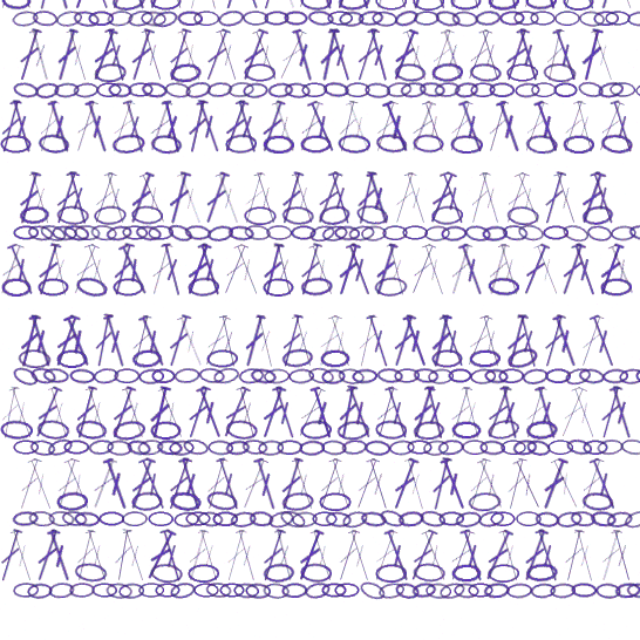chain: (463, 377, 493, 400), (95, 317, 125, 339), (335, 256, 364, 277), (447, 439, 476, 460), (207, 500, 236, 521), (127, 440, 157, 460), (127, 74, 156, 93), (127, 196, 156, 215), (303, 257, 332, 276), (63, 440, 92, 459), (95, 562, 124, 581), (64, 196, 92, 215), (352, 196, 380, 215), (544, 196, 572, 215), (528, 257, 556, 276), (272, 379, 300, 398), (96, 440, 124, 459), (224, 440, 252, 459), (176, 501, 204, 520), (495, 136, 524, 154), (47, 380, 76, 398), (319, 441, 348, 459), (431, 502, 460, 520), (320, 75, 348, 93), (112, 136, 140, 154), (176, 136, 204, 154), (368, 136, 396, 154), (432, 136, 460, 154), (160, 197, 188, 215), (480, 197, 508, 215), (272, 258, 300, 276), (464, 258, 492, 276), (384, 441, 412, 459), (272, 502, 300, 520), (528, 502, 556, 520), (160, 563, 188, 581), (173, 272, 198, 292), (41, 394, 66, 414), (269, 516, 294, 536), (563, 516, 588, 536), (337, 577, 362, 597), (351, 319, 380, 336), (144, 380, 171, 398), (320, 197, 348, 214), (80, 258, 108, 275), (112, 258, 140, 275), (288, 319, 316, 336), (32, 441, 60, 458), (480, 441, 508, 458), (256, 563, 284, 580), (384, 563, 412, 580), (480, 563, 508, 580), (71, 455, 96, 474), (354, 516, 379, 535), (288, 75, 315, 92), (448, 75, 475, 92), (480, 75, 507, 92), (400, 136, 427, 153), (224, 197, 251, 214), (384, 197, 411, 214), (48, 258, 75, 275), (144, 258, 171, 275), (400, 258, 427, 275), (192, 319, 219, 336), (448, 319, 475, 336), (288, 441, 315, 458), (352, 441, 379, 458), (80, 502, 107, 519), (144, 502, 171, 519), (288, 563, 315, 580), (367, 89, 391, 108), (416, 198, 444, 214), (240, 259, 268, 275), (304, 503, 332, 519), (33, 75, 59, 92), (160, 76, 187, 92), (352, 76, 379, 92), (384, 76, 411, 92), (416, 76, 443, 92), (512, 76, 539, 92), (161, 90, 185, 108), (402, 90, 426, 108), (240, 137, 267, 153), (464, 137, 491, 153), (32, 198, 59, 214), (256, 198, 283, 214), (288, 198, 315, 214), (512, 198, 539, 214), (65, 273, 89, 291), (295, 273, 319, 291), (511, 273, 535, 291), (64, 320, 91, 336), (128, 320, 155, 336), (256, 320, 283, 336), (544, 320, 571, 336), (80, 381, 107, 397), (208, 381, 235, 397), (400, 381, 427, 397), (432, 381, 459, 397), (513, 395, 537, 413), (160, 442, 187, 458), (260, 517, 284, 535), (323, 517, 347, 535), (192, 564, 219, 580), (352, 564, 379, 580), (448, 564, 475, 580), (406, 578, 430, 596), (33, 320, 59, 336), (305, 381, 331, 397), (417, 442, 443, 458), (417, 564, 443, 580), (140, 90, 164, 107), (217, 90, 241, 107), (189, 151, 213, 168), (524, 151, 548, 168), (541, 151, 565, 168), (85, 273, 109, 290), (473, 273, 497, 290), (57, 395, 81, 412), (213, 395, 237, 412), (294, 395, 318, 412), (187, 456, 211, 473), (514, 456, 538, 473), (389, 517, 413, 534), (439, 517, 463, 534), (176, 578, 200, 595), (291, 578, 315, 595), (79, 91, 103, 107), (42, 152, 66, 168), (208, 274, 232, 290), (354, 579, 378, 595), (42, 91, 65, 107), (94, 91, 117, 107), (61, 152, 84, 168), (172, 152, 195, 168), (55, 274, 78, 290), (122, 274, 145, 290), (147, 274, 170, 290), (306, 274, 329, 290), (329, 274, 352, 290), (428, 274, 451, 290), (532, 274, 555, 290), (245, 396, 268, 412), (320, 396, 343, 412), (477, 396, 500, 412), (525, 396, 548, 412), (57, 457, 80, 473), (139, 457, 162, 473), (480, 457, 503, 473), (228, 518, 251, 534), (339, 518, 362, 534), (420, 518, 443, 534), (506, 518, 529, 534), (549, 518, 572, 534), (368, 579, 391, 595), (59, 91, 82, 106), (123, 91, 146, 106), (294, 91, 317, 106), (337, 91, 360, 106), (437, 91, 460, 106), (152, 152, 175, 167), (208, 152, 231, 167), (226, 152, 249, 167), (307, 152, 330, 167), (361, 152, 384, 167), (373, 152, 396, 167), (389, 152, 412, 167), (402, 152, 425, 167), (95, 274, 118, 289), (109, 274, 132, 289), (189, 274, 212, 289), (240, 274, 263, 289), (460, 274, 483, 289), (568, 274, 591, 289), (68, 396, 91, 411), (111, 396, 134, 411), (180, 396, 203, 411), (201, 396, 224, 411), (235, 396, 258, 411), (353, 396, 376, 411), (384, 396, 407, 411), (107, 457, 130, 472), (149, 457, 172, 472), (165, 457, 188, 472), (238, 457, 261, 472), (323, 457, 346, 472), (405, 457, 428, 472), (541, 457, 564, 472), (561, 457, 584, 472), (42, 518, 65, 533), (56, 518, 79, 533), (73, 518, 96, 533), (84, 518, 107, 533), (371, 518, 394, 533), (518, 518, 541, 533), (535, 518, 558, 533), (73, 579, 96, 594), (207, 579, 230, 594), (444, 579, 467, 594), (556, 579, 579, 594), (419, 152, 441, 167), (469, 457, 491, 472), (244, 518, 266, 533), (383, 579, 405, 594), (417, 92, 440, 106), (94, 153, 117, 167), (260, 153, 283, 167), (274, 153, 297, 167), (226, 275, 249, 289), (200, 519, 223, 533), (309, 519, 332, 533), (122, 580, 145, 594), (256, 580, 279, 594), (484, 580, 507, 594), (566, 580, 589, 594), (152, 92, 174, 106), (321, 92, 343, 106), (349, 92, 371, 106), (526, 92, 548, 106), (567, 92, 589, 106), (78, 153, 100, 167), (239, 153, 261, 167), (343, 153, 365, 167), (471, 153, 493, 167), (574, 153, 596, 167), (76, 275, 98, 289), (317, 275, 339, 289), (340, 275, 362, 289), (394, 275, 416, 289), (408, 275, 430, 289), (443, 275, 465, 289), (553, 275, 575, 289), (91, 397, 113, 411), (150, 397, 172, 411), (257, 397, 279, 411), (278, 397, 300, 411), (332, 397, 354, 411), (397, 397, 419, 411), (433, 397, 455, 411), (546, 397, 568, 411), (560, 397, 582, 411), (123, 458, 145, 472), (176, 458, 198, 472), (209, 458, 231, 472), (224, 458, 246, 472), (252, 458, 274, 472), (287, 458, 309, 472), (306, 458, 328, 472), (343, 458, 365, 472), (364, 458, 386, 472), (393, 458, 415, 472), (441, 458, 463, 472), (95, 519, 117, 533), (180, 519, 202, 533), (281, 519, 303, 533), (488, 519, 510, 533), (55, 580, 77, 594), (133, 580, 155, 594), (231, 580, 253, 594), (241, 580, 263, 594), (395, 580, 417, 594), (419, 580, 441, 594), (464, 580, 486, 594), (501, 580, 523, 594), (540, 580, 562, 594), (124, 153, 145, 167), (306, 397, 327, 411), (445, 397, 466, 411), (107, 92, 129, 105), (183, 92, 205, 105), (197, 92, 219, 105), (239, 92, 261, 105), (257, 92, 279, 105), (311, 92, 333, 105), (385, 92, 407, 105), (458, 92, 480, 105), (470, 92, 492, 105), (484, 92, 506, 105), (505, 92, 527, 105), (538, 92, 560, 105), (548, 92, 570, 105), (114, 153, 136, 166), (141, 153, 163, 166), (289, 153, 311, 166), (326, 153, 348, 166), (433, 153, 455, 166), (449, 153, 471, 166), (485, 153, 507, 166), (552, 153, 574, 166), (43, 275, 65, 288), (136, 275, 158, 288), (158, 275, 180, 288), (259, 275, 281, 288), (280, 275, 302, 288), (358, 275, 380, 288), (375, 275, 397, 288), (495, 275, 517, 288), (129, 397, 151, 410), (368, 397, 390, 410), (457, 397, 479, 410), (497, 397, 519, 410), (574, 397, 596, 410), (43, 458, 65, 471), (86, 458, 108, 471), (268, 458, 290, 471), (379, 458, 401, 471), (426, 458, 448, 471), (459, 458, 481, 471), (499, 458, 521, 471), (529, 458, 551, 471), (116, 519, 138, 532), (136, 519, 158, 532), (158, 519, 180, 532), (190, 519, 212, 532), (213, 519, 235, 532), (298, 519, 320, 532), (406, 519, 428, 532), (450, 519, 472, 532), (472, 519, 494, 532), (43, 580, 65, 593), (91, 580, 113, 593), (110, 580, 132, 593), (150, 580, 172, 593), (164, 580, 186, 593), (197, 580, 219, 593), (219, 580, 241, 593), (272, 580, 294, 593), (306, 580, 328, 593), (317, 580, 339, 593), (431, 580, 453, 593), (519, 580, 541, 593), (274, 92, 295, 105), (504, 153, 525, 166), (161, 397, 182, 410), (414, 397, 435, 410)
double: (130, 289, 163, 337), (466, 472, 499, 520), (498, 472, 531, 519), (152, 533, 185, 580), (281, 45, 313, 93), (473, 45, 505, 93), (265, 106, 297, 154), (291, 167, 323, 215), (147, 228, 179, 276), (393, 228, 425, 276), (547, 289, 579, 337), (179, 350, 211, 398), (217, 411, 249, 459), (281, 411, 313, 459), (435, 472, 467, 520), (531, 472, 563, 520), (441, 533, 473, 581), (259, 45, 290, 93), (387, 45, 418, 93), (233, 106, 264, 154), (425, 106, 456, 154), (323, 167, 354, 215), (355, 167, 386, 215), (377, 167, 408, 215), (537, 167, 568, 215), (179, 228, 210, 276), (297, 228, 328, 276), (467, 228, 498, 276), (35, 289, 66, 337), (89, 289, 120, 337), (217, 289, 248, 337), (323, 289, 354, 337), (377, 289, 408, 337), (473, 289, 504, 337), (83, 350, 114, 398), (147, 350, 178, 398), (201, 350, 232, 398), (425, 350, 456, 398), (531, 350, 562, 398), (57, 411, 88, 459), (163, 411, 194, 459), (505, 411, 536, 459), (83, 472, 114, 520), (105, 472, 136, 520), (147, 472, 178, 520), (233, 472, 264, 520), (489, 472, 520, 520), (281, 533, 312, 581), (377, 533, 408, 581), (100, 45, 130, 93), (122, 45, 152, 93), (154, 45, 184, 93), (228, 45, 258, 93), (410, 45, 440, 93), (506, 45, 536, 93), (202, 106, 232, 154), (244, 106, 274, 154), (362, 106, 392, 154), (372, 106, 402, 154), (260, 167, 290, 215), (212, 228, 242, 276), (522, 228, 552, 276), (26, 289, 56, 337), (186, 289, 216, 337), (228, 289, 258, 337), (292, 289, 322, 337), (484, 289, 514, 337), (516, 289, 546, 337), (538, 289, 568, 337), (298, 350, 328, 398), (196, 411, 226, 459), (324, 411, 354, 459), (442, 411, 472, 459), (52, 472, 82, 520), (116, 472, 146, 520), (138, 472, 168, 520), (330, 472, 360, 520), (362, 472, 392, 520), (404, 472, 434, 520), (356, 533, 386, 581), (388, 533, 418, 581), (410, 533, 440, 581), (90, 45, 119, 93), (314, 45, 343, 93), (356, 45, 385, 93), (516, 45, 545, 93), (548, 45, 577, 93), (106, 106, 135, 154), (138, 106, 167, 154), (180, 106, 209, 154), (394, 106, 423, 154), (404, 106, 433, 154), (458, 106, 487, 154), (500, 106, 529, 154), (532, 106, 561, 154), (122, 167, 151, 215), (154, 167, 183, 215), (196, 167, 225, 215), (218, 167, 247, 215), (250, 167, 279, 215), (282, 167, 311, 215), (388, 167, 417, 215), (410, 167, 439, 215), (420, 167, 449, 215), (452, 167, 481, 215), (474, 167, 503, 215), (484, 167, 513, 215), (74, 228, 103, 276), (138, 228, 167, 276), (202, 228, 231, 276), (404, 228, 433, 276), (458, 228, 487, 276), (532, 228, 561, 276), (100, 289, 129, 337), (388, 289, 417, 337), (420, 289, 449, 337), (506, 289, 535, 337), (74, 350, 103, 398), (308, 350, 337, 398), (372, 350, 401, 398), (404, 350, 433, 398), (500, 350, 529, 398), (522, 350, 551, 398), (36, 411, 65, 459), (122, 411, 151, 459), (132, 411, 161, 459), (250, 411, 279, 459), (516, 411, 545, 459), (170, 472, 199, 520), (340, 472, 369, 520), (522, 472, 551, 520), (58, 533, 87, 581), (346, 533, 375, 581), (474, 533, 503, 581), (27, 45, 55, 93), (37, 45, 65, 93), (133, 45, 161, 93), (165, 45, 193, 93), (293, 45, 321, 93), (325, 45, 353, 93), (539, 45, 567, 93), (43, 106, 71, 154), (331, 106, 359, 154), (69, 167, 97, 215), (91, 167, 119, 215), (101, 167, 129, 215), (133, 167, 161, 215), (229, 167, 257, 215), (347, 167, 375, 215), (507, 167, 535, 215), (549, 167, 577, 215), (107, 228, 135, 276), (245, 228, 273, 276), (277, 228, 305, 276), (341, 228, 369, 276), (363, 228, 391, 276), (373, 228, 401, 276), (501, 228, 529, 276), (59, 289, 87, 337), (197, 289, 225, 337), (315, 289, 343, 337), (347, 289, 375, 337), (411, 289, 439, 337), (443, 289, 471, 337), (53, 350, 81, 398), (341, 350, 369, 398), (101, 411, 129, 459), (187, 411, 215, 459), (261, 411, 289, 459), (293, 411, 321, 459), (347, 411, 375, 459), (357, 411, 385, 459), (379, 411, 407, 459), (43, 472, 71, 520), (75, 472, 103, 520), (213, 472, 241, 520), (245, 472, 273, 520), (277, 472, 305, 520), (299, 472, 327, 520), (309, 472, 337, 520), (37, 533, 65, 581), (69, 533, 97, 581), (101, 533, 129, 581), (133, 533, 161, 581), (251, 533, 279, 581), (293, 533, 321, 581), (315, 533, 343, 581), (325, 533, 353, 581), (421, 533, 449, 581), (485, 533, 513, 581), (539, 533, 567, 581), (219, 45, 246, 93), (251, 45, 278, 93), (347, 45, 374, 93), (379, 45, 406, 93), (443, 45, 470, 93), (485, 45, 512, 93), (53, 106, 80, 154), (85, 106, 112, 154), (149, 106, 176, 154), (171, 106, 198, 154), (213, 106, 240, 154), (309, 106, 336, 154), (437, 106, 464, 154), (469, 106, 496, 154), (37, 167, 64, 215), (443, 167, 470, 215), (517, 167, 544, 215), (43, 228, 70, 276), (53, 228, 80, 276), (85, 228, 112, 276), (117, 228, 144, 276), (171, 228, 198, 276), (235, 228, 262, 276), (267, 228, 294, 276), (309, 228, 336, 276), (437, 228, 464, 276), (491, 228, 518, 276), (283, 289, 310, 337), (453, 289, 480, 337), (117, 350, 144, 398), (171, 350, 198, 398), (277, 350, 304, 398), (363, 350, 390, 398), (459, 350, 486, 398), (491, 350, 518, 398), (69, 411, 96, 459), (411, 411, 438, 459), (475, 411, 502, 459), (485, 411, 512, 459), (549, 411, 576, 459), (181, 472, 208, 520), (203, 472, 230, 520), (267, 472, 294, 520), (373, 472, 400, 520), (427, 472, 454, 520), (27, 533, 54, 581), (165, 533, 192, 581), (187, 533, 214, 581), (197, 533, 224, 581), (229, 533, 256, 581), (70, 45, 96, 93), (76, 106, 102, 154), (118, 106, 144, 154), (278, 106, 304, 154), (342, 106, 368, 154), (524, 106, 550, 154), (28, 167, 54, 215), (60, 167, 86, 215), (166, 167, 192, 215), (428, 228, 454, 276), (124, 289, 150, 337), (156, 289, 182, 337), (166, 289, 192, 337), (44, 350, 70, 398), (236, 350, 262, 398), (268, 350, 294, 398), (438, 350, 464, 398), (92, 411, 118, 459), (230, 411, 256, 459), (390, 411, 416, 459), (540, 411, 566, 459), (220, 533, 246, 581), (454, 533, 480, 581), (508, 533, 534, 581), (518, 533, 544, 581), (550, 533, 576, 581), (60, 45, 85, 93), (188, 45, 213, 93), (198, 45, 223, 93), (422, 45, 447, 93), (188, 167, 213, 215), (316, 167, 341, 215), (332, 228, 357, 276), (252, 289, 277, 337), (262, 289, 287, 337), (358, 289, 383, 337), (140, 350, 165, 398), (246, 350, 271, 398), (396, 350, 421, 398), (470, 350, 495, 398), (156, 411, 181, 459), (422, 411, 447, 459), (396, 472, 421, 520), (460, 472, 485, 520), (92, 533, 117, 581), (262, 533, 287, 581), (455, 45, 479, 93), (301, 106, 325, 154), (493, 106, 517, 154), (71, 289, 95, 337), (215, 350, 239, 398), (333, 350, 357, 398), (455, 411, 479, 459), (29, 411, 52, 459), (109, 350, 132, 397), (317, 411, 340, 458), (126, 533, 148, 580)
noise: (596, 374, 623, 384)
